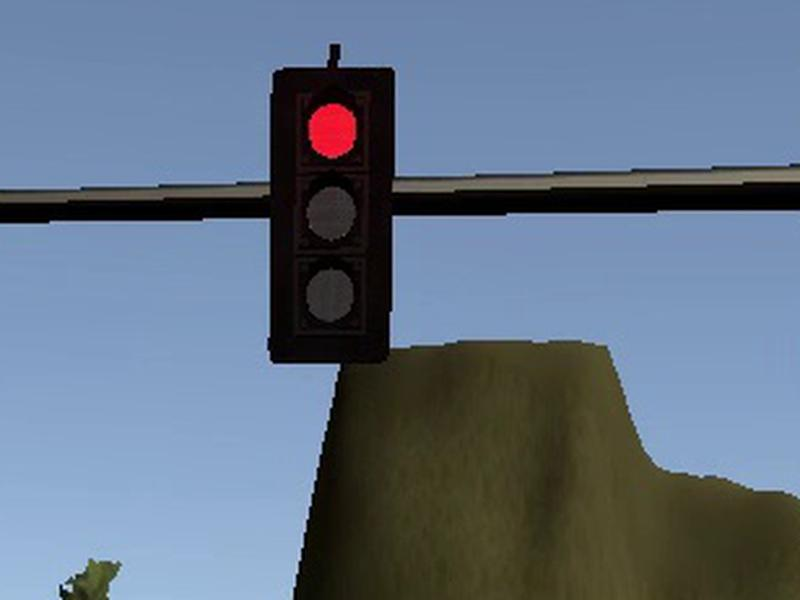Red: (267, 65, 396, 364)
